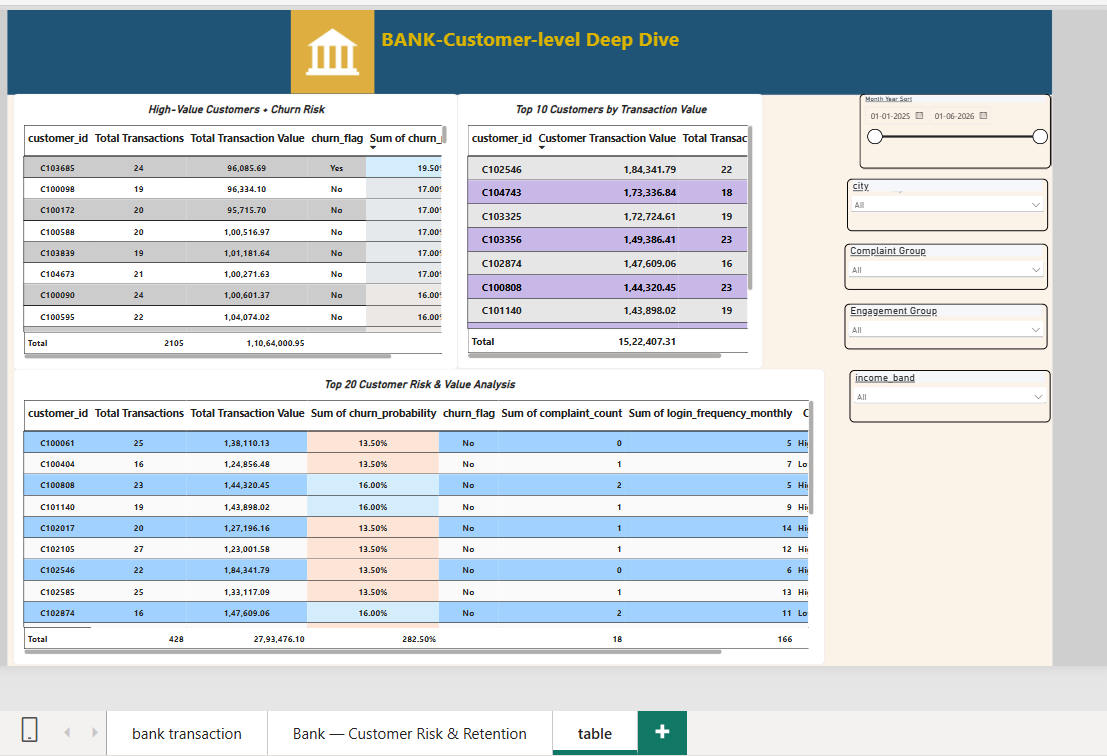

This screenshot's page, from the dashboard's own definition file:
{"tool":"powerbi","page":{"name":"table","canvas":[1920,1080],"ordinal":2},"visuals":[{"type":"tableEx","title":"Top 10 Customers by Transaction Value","fields":{"Values":["customers.customer_id","transactions1.Customer Transaction Value","customers.Total Transactions"]},"box":[840.5,137.9,470.8,452.4],"z":0},{"type":"tableEx","title":"High-Value Customers + Churn Risk","fields":{"Values":["customers.customer_id","customers.Total Transactions","customers.Total Transaction Value","customer_behaviours.churn_flag","Sum(customer_behaviours.churn_probability)"]},"box":[108.5,137.9,732,454.3],"z":1000},{"type":"tableEx","title":"Top 20 Customer Risk & Value Analysis","fields":{"Values":["customers.customer_id","customers.Total Transactions","customers.Total Transaction Value","Sum(customer_behaviours.churn_probability)","customer_behaviours.churn_flag","Sum(customer_behaviours.complaint_count)","Sum(customer_behaviours.login_frequency_monthly)","customer_behaviours.Customer Segment"]},"box":[108.5,590.3,1373.8,489.2],"z":1001},{"type":"slicer","fields":{"Values":["customers.city"]},"box":[1482.3,496.6,331,86.4],"z":1002},{"type":"slicer","fields":{"Values":["customers.income_band"]},"box":[1482.3,137.9,331,86.4],"z":1003},{"type":"slicer","fields":{"Values":["customer_behaviours.Engagement Group"]},"box":[1482.3,253.8,334.7,75.4],"z":1004},{"type":"slicer","fields":{"Values":["customer_behaviours.Complaint Group"]},"box":[1480.5,364.1,332.9,106.7],"z":1005},{"type":"slicer","fields":{"Values":["transactions1.Month Year Sort"]},"box":[1506.2,612.4,310.8,119.5],"z":1006}]}

Visuals, with their boxes on the page's 1920x1080 design canvas (x1, y1, x2, y2). These are canvas units, not pixel positions in the 1107x756 screenshot, which may show the page scaled, cropped or inside an application window:
"Top 10 Customers by Transaction Value" tableEx: detection(840, 138, 1311, 590)
"High-Value Customers + Churn Risk" tableEx: detection(108, 138, 840, 592)
"Top 20 Customer Risk & Value Analysis" tableEx: detection(108, 590, 1482, 1080)
slicer - customers.city: detection(1482, 497, 1813, 583)
slicer - customers.income_band: detection(1482, 138, 1813, 224)
slicer - customer_behaviours.Engagement Group: detection(1482, 254, 1817, 329)
slicer - customer_behaviours.Complaint Group: detection(1480, 364, 1813, 471)
slicer - transactions1.Month Year Sort: detection(1506, 612, 1817, 732)
